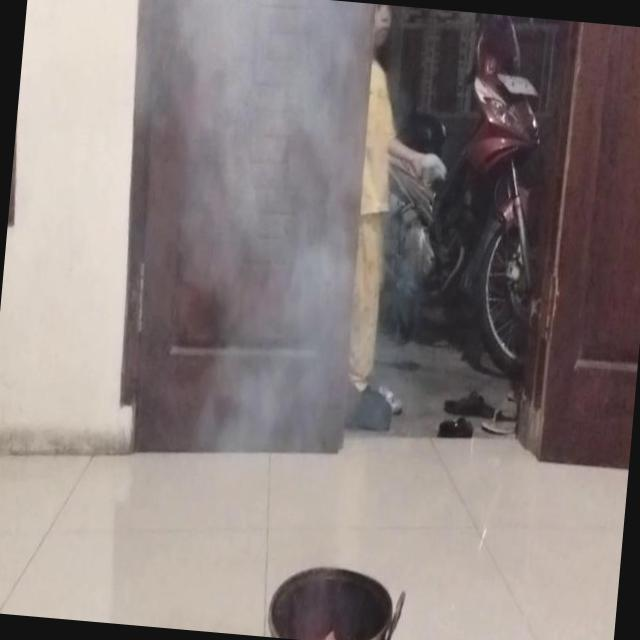smoke: (148, 0, 398, 503)
